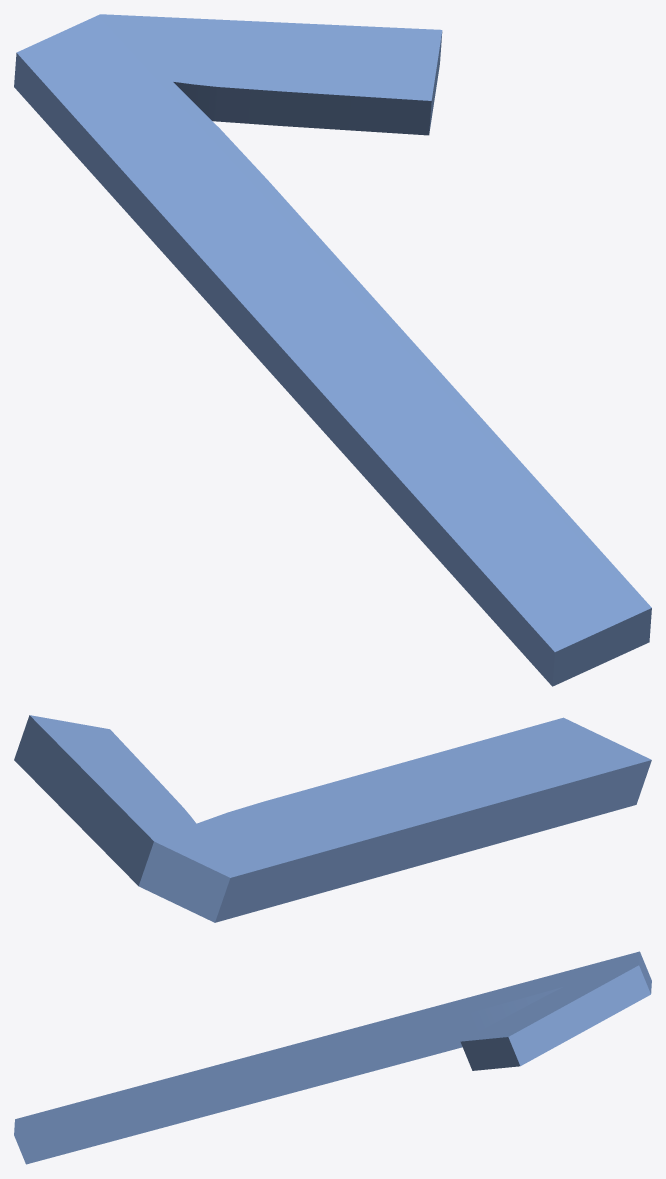
The model's file is New_Number_1.gltf.
3 views of the same model, one above another, from view 1: azimuth 30°, elevation 25°; view 2: azimuth 150°, elevation 25°; view 3: azimuth 270°, elevation 25° (orthographic). The views are drawn at different scales.
Visible parts, largest first — view 1: Part 604; view 2: Part 604; view 3: Part 604.
Part boxes in pixels (x1=…): Part 604: x1=14, y1=14, x2=651, y2=686; Part 604: x1=14, y1=715, x2=651, y2=922; Part 604: x1=14, y1=951, x2=651, y2=1164.
Bounding box in the file's own units: 0.00186 × 0.00168 × 0.00498.
